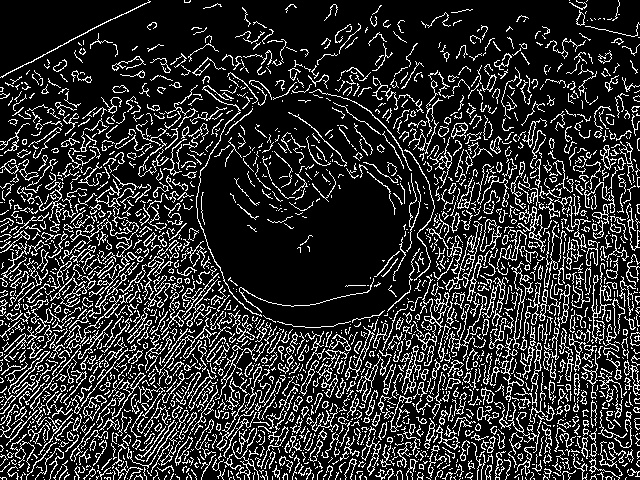onion: (171, 64, 447, 335)
